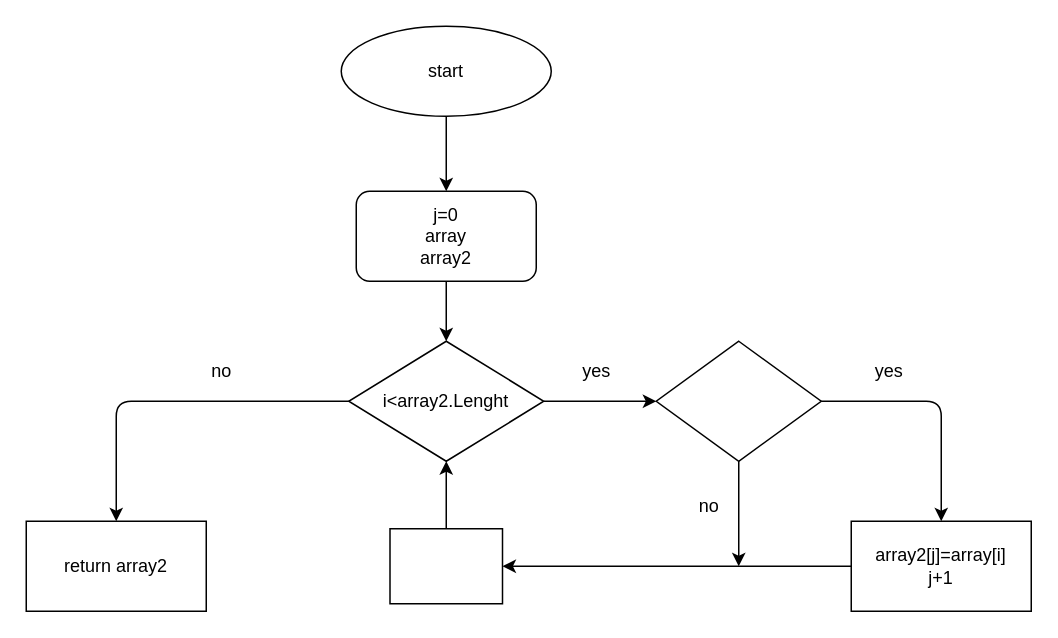
Some shapes in this 1058 by 638 pixel diagram are drawn without their labels. Here are the shapes that lost their labels. From the top down, the centre of each, then its label:
(738,400): array[i]<a
(445,565): i+1
